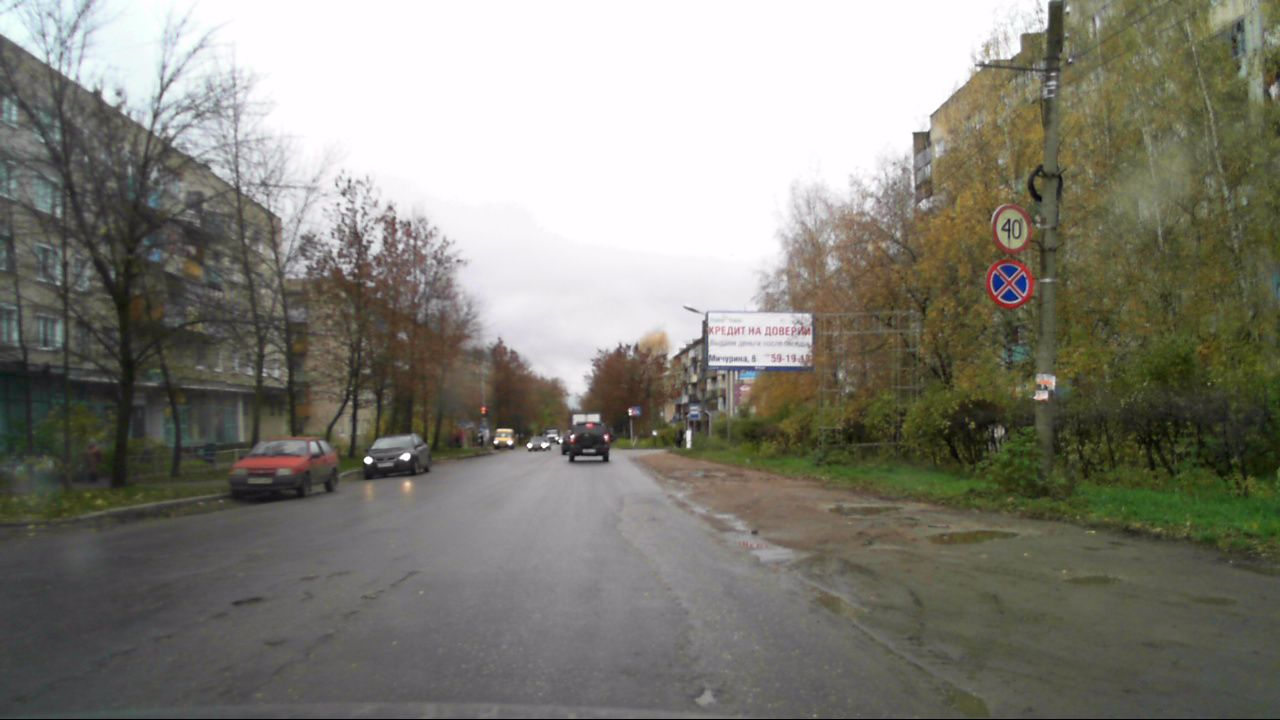No Parking: (983, 257, 1033, 310)
speed_warning_40: (990, 202, 1032, 255)
